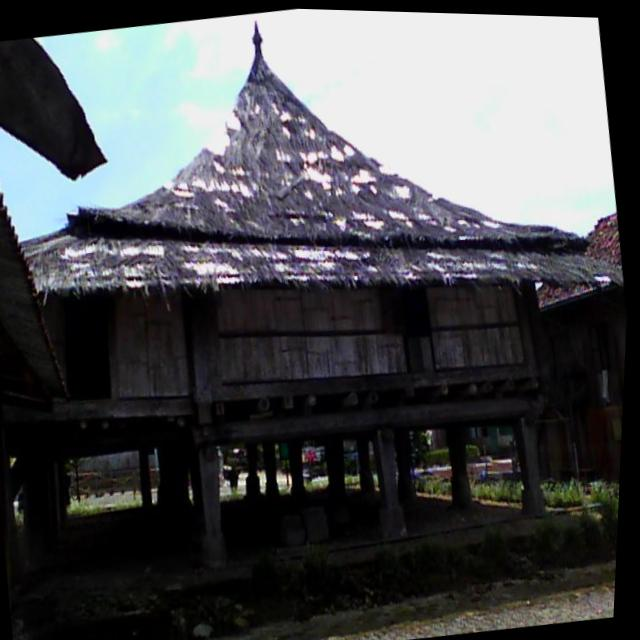Kolom: (446, 429, 472, 506), (356, 440, 375, 496)
jendela: (379, 287, 429, 334)
